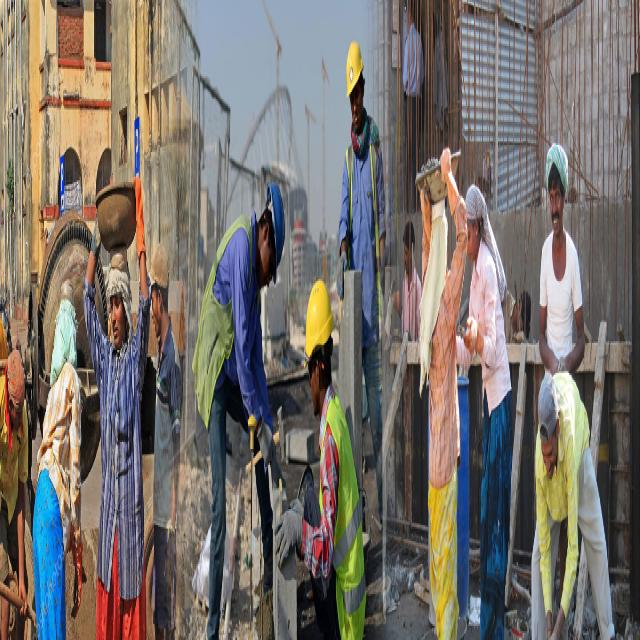Reflective-Jacket: (194, 198, 256, 419), (318, 392, 368, 636), (342, 124, 384, 330)
Safety-Helmet: (303, 274, 334, 366), (266, 179, 287, 274), (146, 226, 170, 294), (345, 36, 365, 98)
